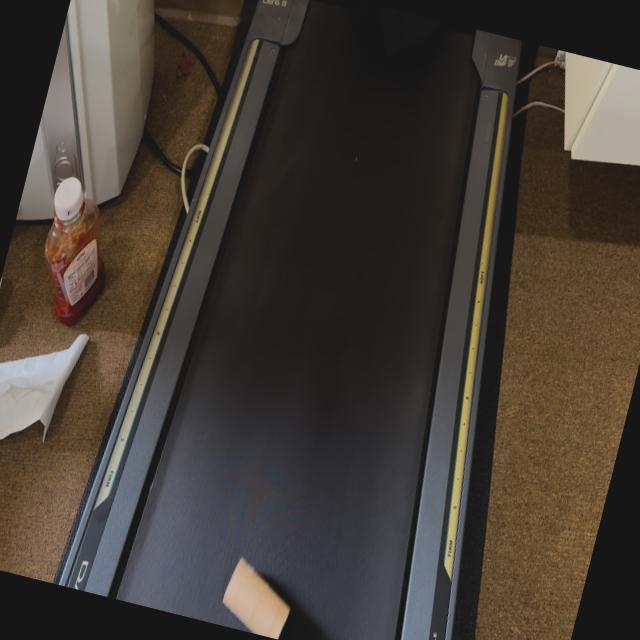Recycle: (216, 555, 300, 640)
